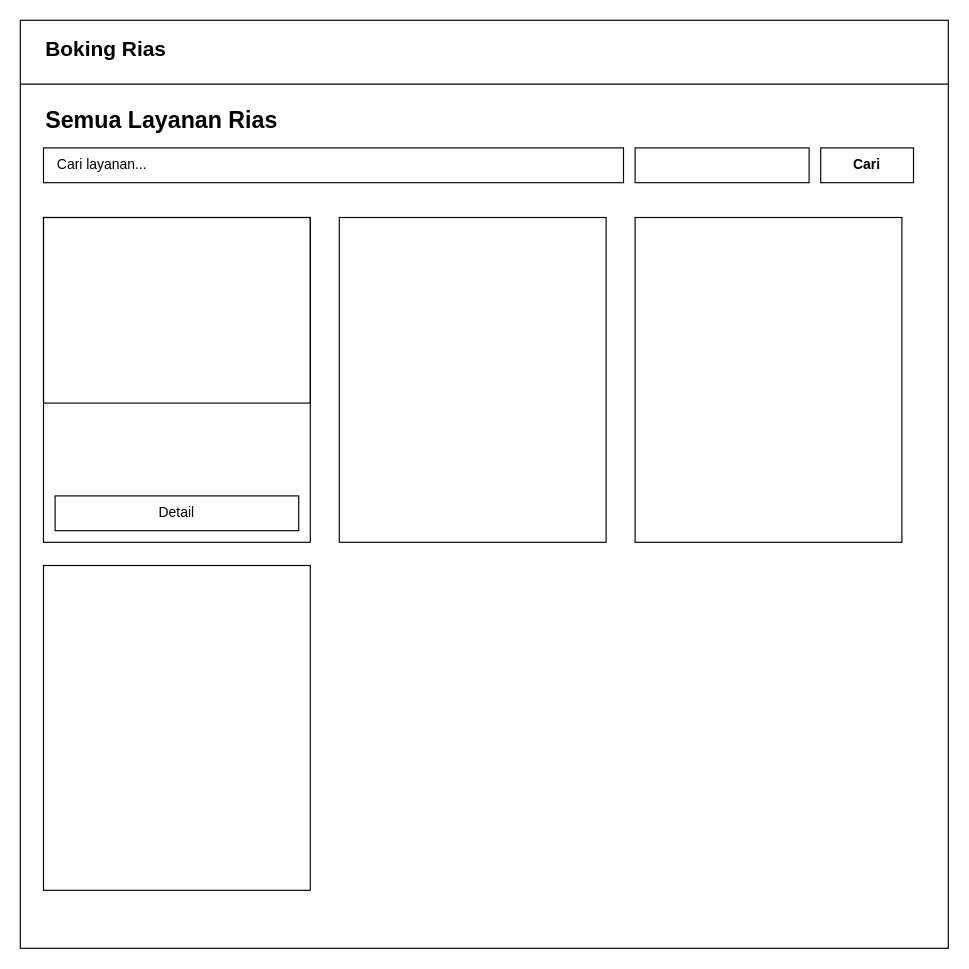
Image size: 969x969. Some labels were removed from this diagram. The centre of each missing label's shape, as x and y in pixels:
Image: the point at 176,309
Semua Kategori: the point at 721,165
